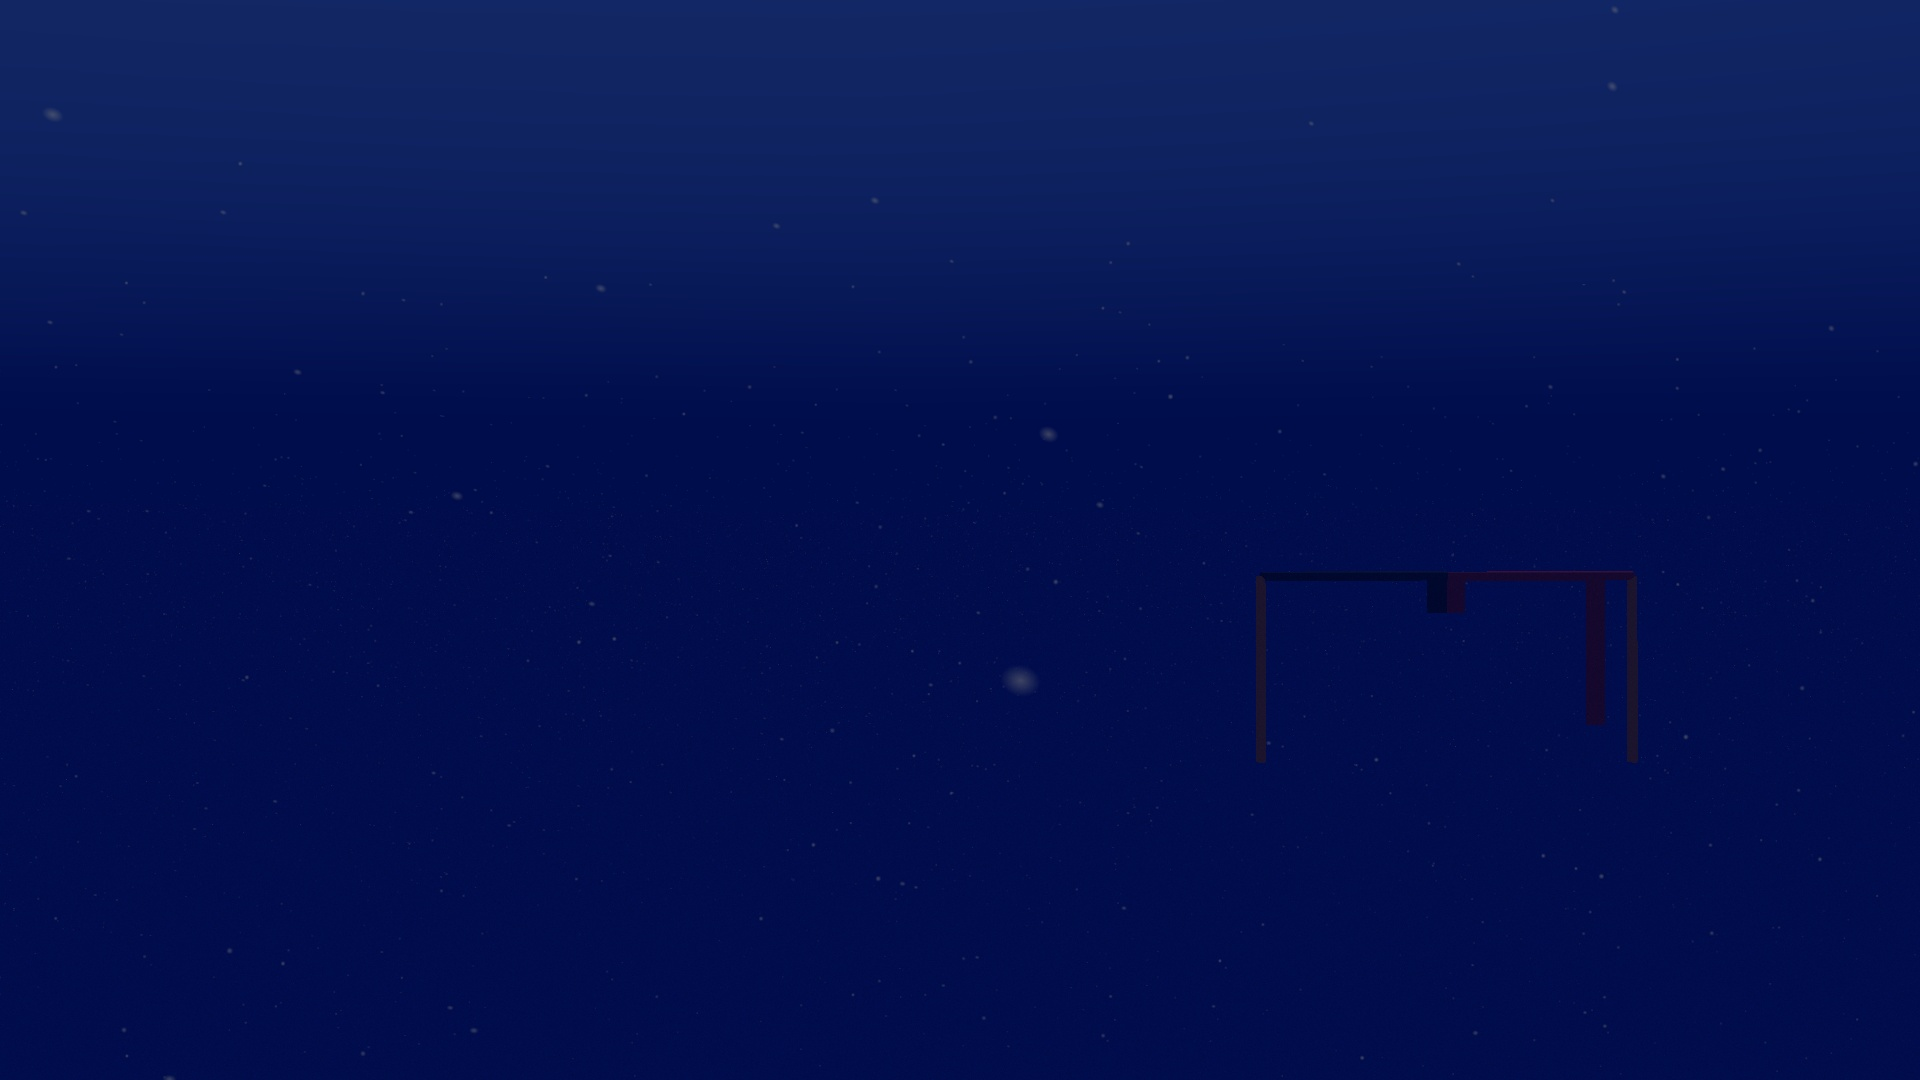Gate: (1244, 560, 1651, 779)
